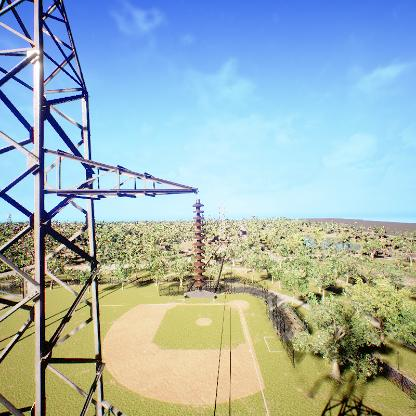insulator: (192, 202, 206, 290)
